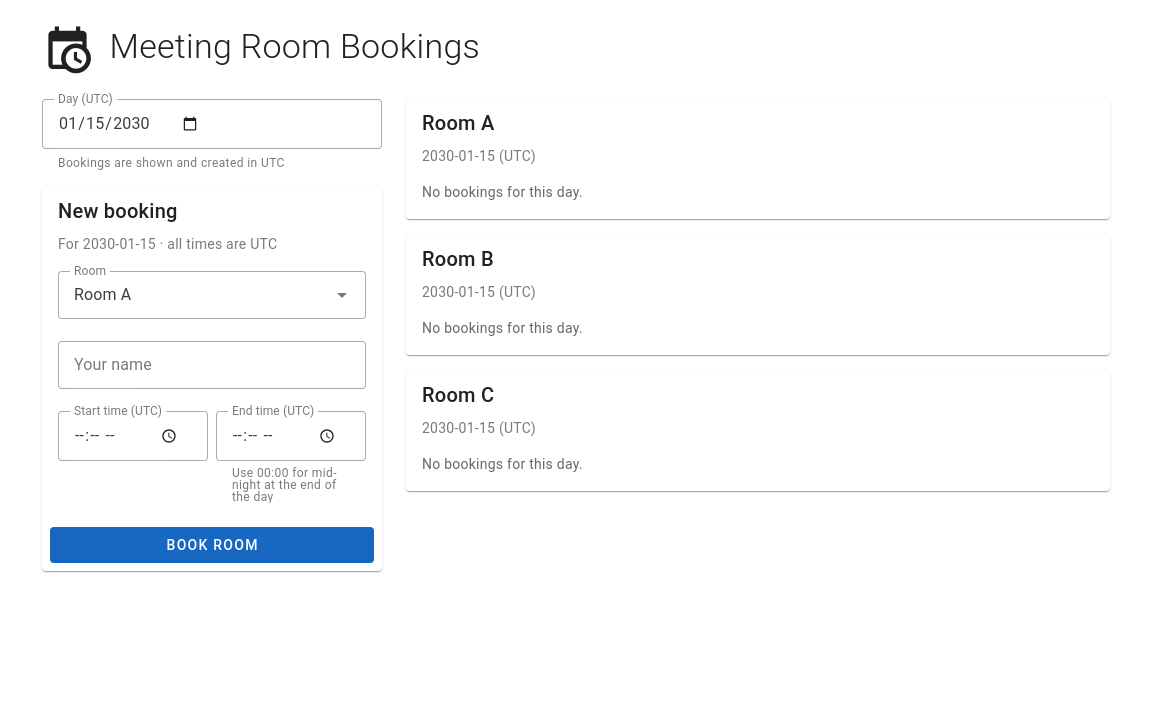
Test case: RoomBookings › loads the bookings for a newly selected day
Type "2030-02-01" into the date field named "selectedDate" at (212,124), box [42, 99, 382, 149]
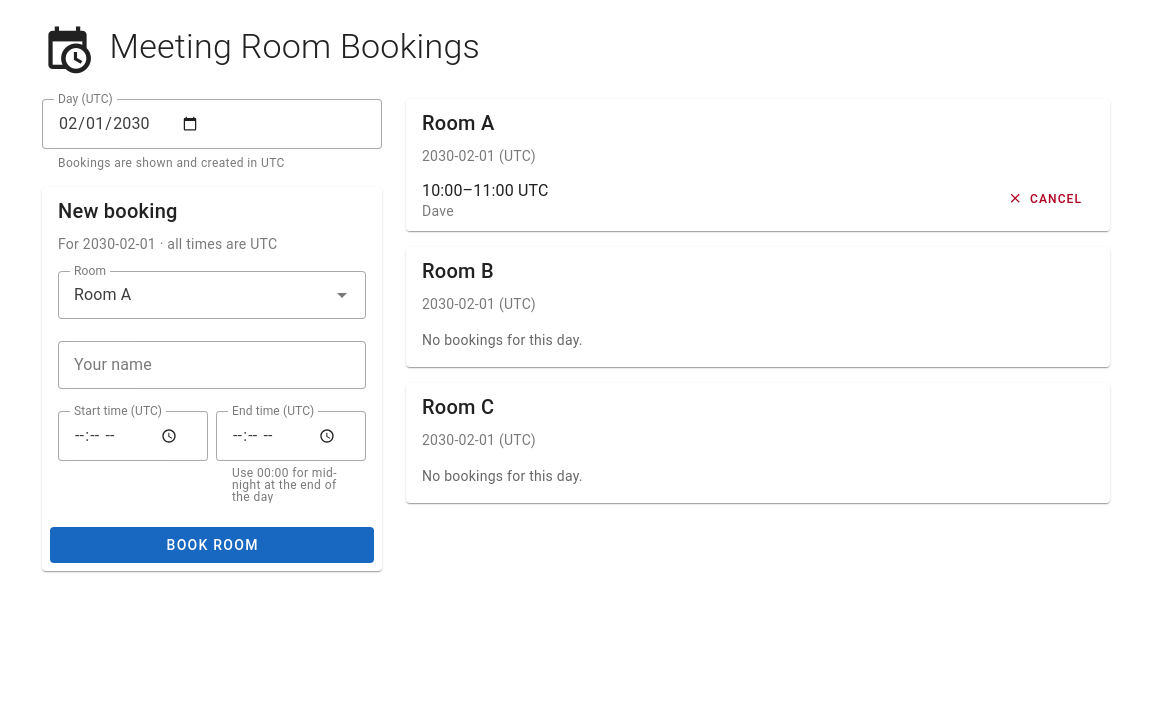
Now the element showing "Room A 2030-02-01 (UTC) 10:00–11:00 UTC Dave Cancel" is shown, box [406, 99, 1110, 231]
